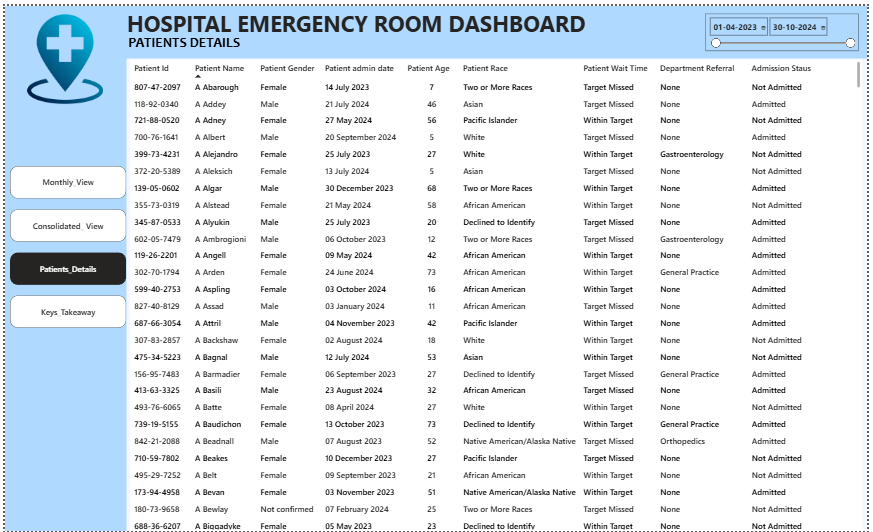

What the dashboard file says about the page in this screenshot:
{"tool":"powerbi","page":{"name":"Patients_Details ","canvas":[2300,1400],"ordinal":2},"visuals":[{"type":"shape","box":[321.7,0,1979,140.3],"z":0},{"type":"shape","box":[0,0,324.1,1400.5],"z":1000},{"type":"textbox","box":[319.3,0,1262.6,89.5],"z":2000},{"type":"textbox","box":[322.5,70,430,57.5],"z":3000},{"type":"slicer","fields":{"Values":["Calendar_Table.Date"]},"box":[1867.5,20,410,100],"z":4000},{"type":"image","box":[10.5,18,300,250],"z":5000},{"type":"tableEx","fields":{"Values":["Hospital ER_Data.Patient Id","Hospital ER_Data.Patient_Full Name","Hospital ER_Data.Patient Gender","Hospital ER_Data.Patient admin date","Sum(Hospital ER_Data.Patient Age)","Hospital ER_Data.Patient Race","Hospital ER_Data.Patient Wait Time","Hospital ER_Data.Department Referral","Hospital ER_Data.Admission Staus"]},"box":[332.5,142.5,1952.5,1257.5],"z":6000},{"type":"pageNavigator","box":[13.3,426.7,310,433.3],"z":7000}]}

Visuals, with their boxes in screenshot pixels (x1, y1, x2, y2), scaled from the page's 2300x1400 canvas onto the 873x532 screenshot:
shape: 122/0/872/53
shape: 0/0/123/531
textbox: 121/0/600/34
textbox: 122/27/286/48
slicer - Calendar_Table.Date: 709/8/864/46
image: 4/7/118/102
tableEx - Hospital ER_Data.Patient Id x Hospital ER_Data.Patient_Full Name: 126/54/867/531
pageNavigator: 5/162/123/327
